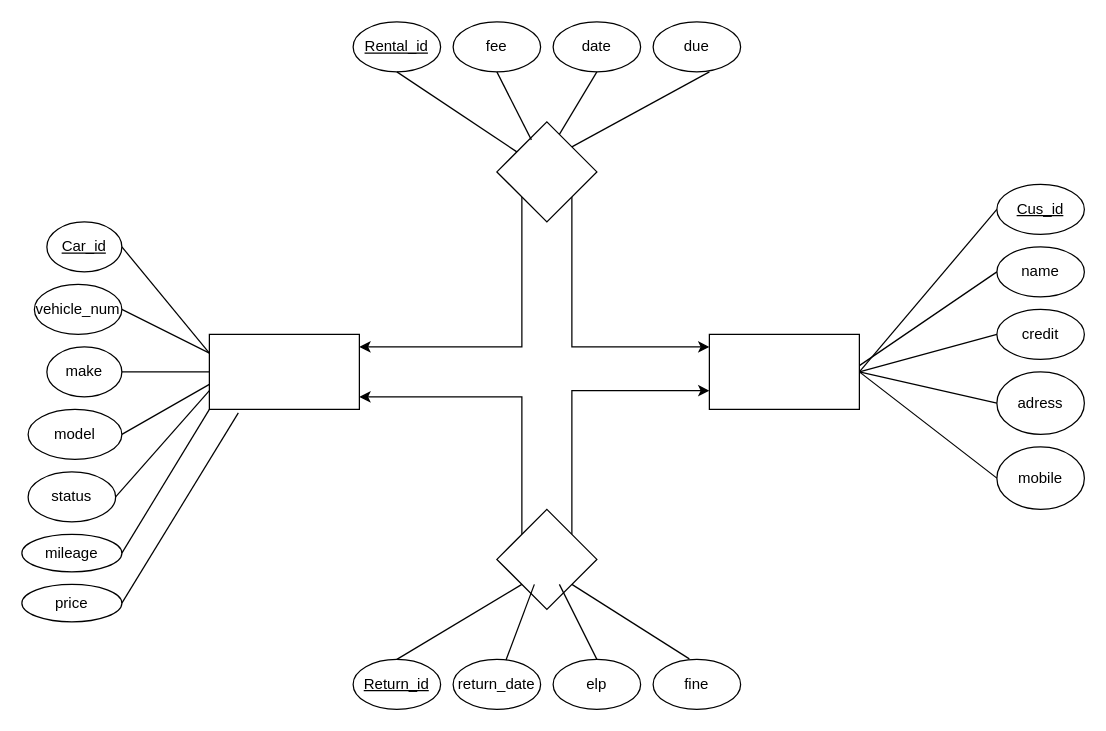
The diagram is 1106 pixels wide and 731 high, and some of its shapes have lost their labels. Here are the shapes that lost their labels. From the top down, the centre of each, then its label:
At pixel 546 171: "Rental".
At pixel 283 371: "Car".
At pixel 783 371: "Customer".
At pixel 546 558: "ReturnCar".
